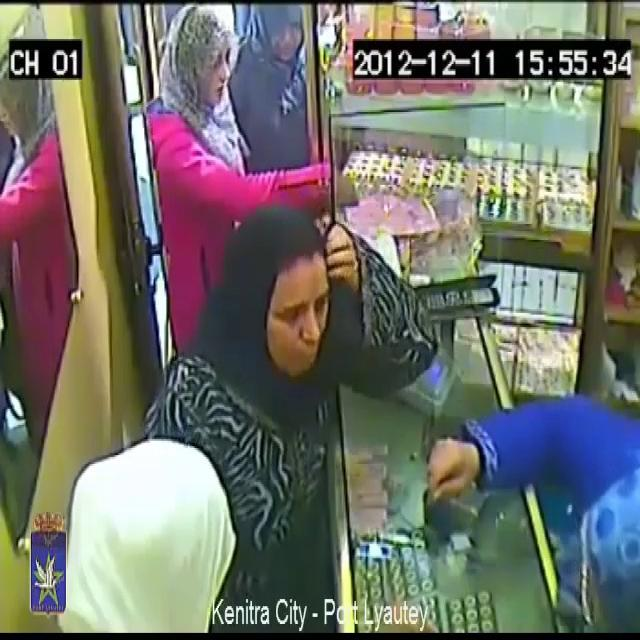normal: (412, 263, 640, 640), (142, 0, 344, 314), (29, 403, 264, 640), (214, 178, 345, 396), (228, 0, 314, 192)
